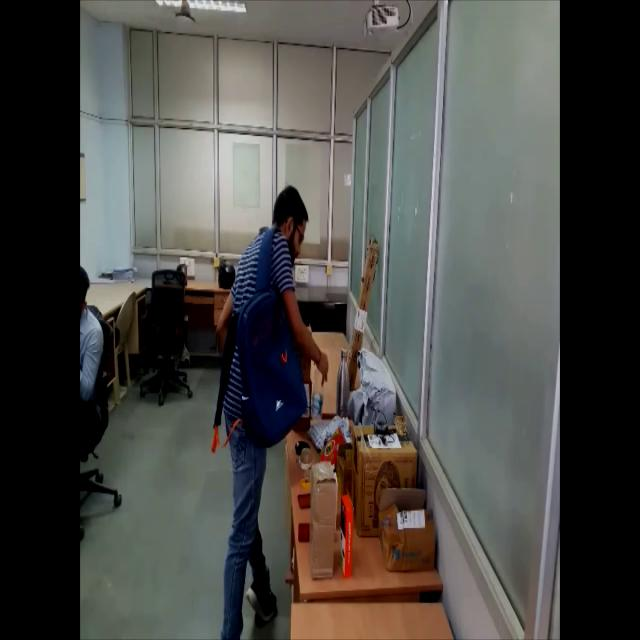normal: (207, 189, 329, 640)
